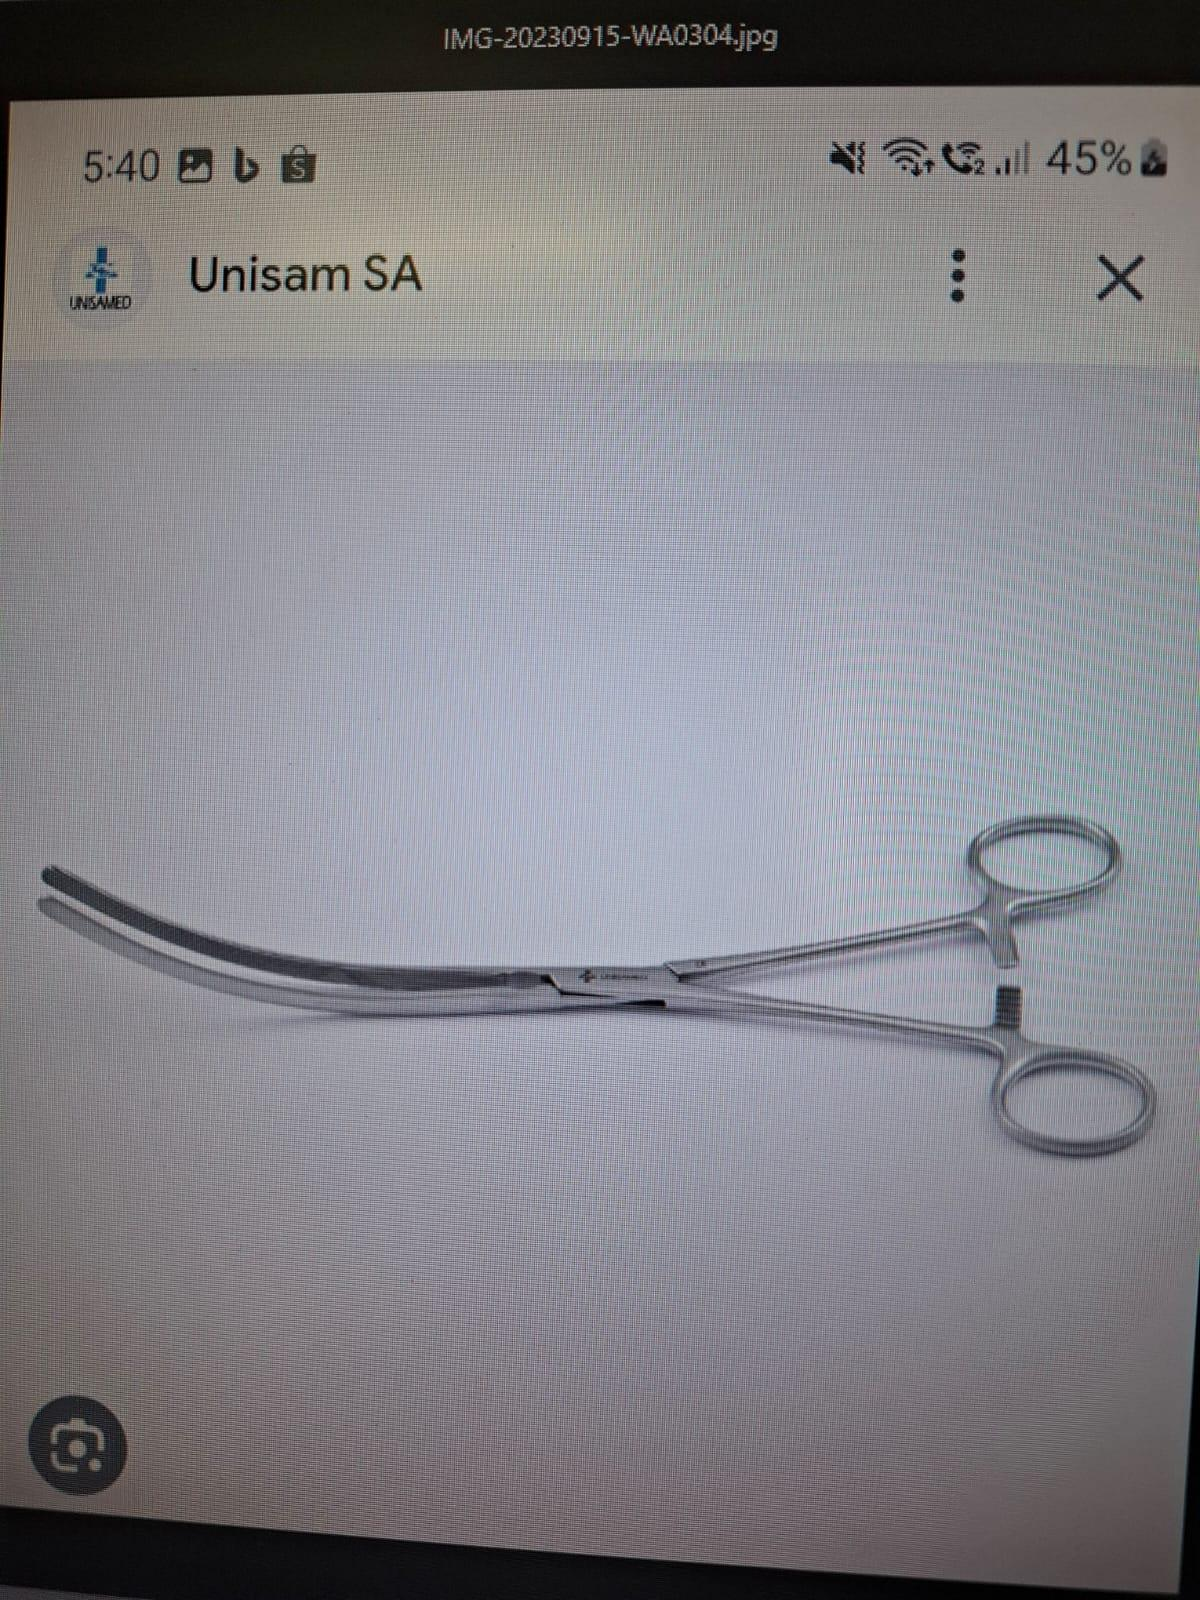Doyel Instestinal Forceps: (28, 797, 1167, 1183)
